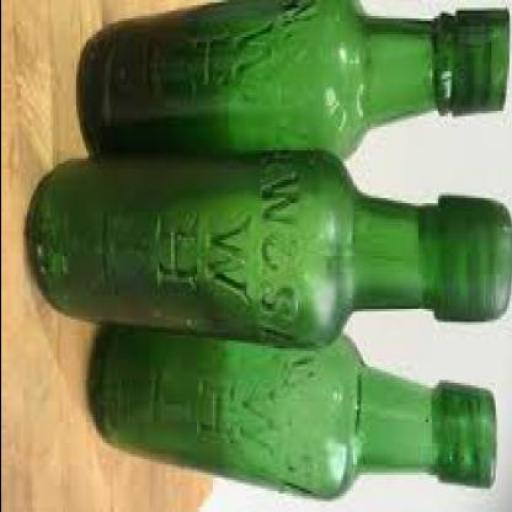glass: (26, 145, 511, 347), (77, 1, 510, 158), (90, 330, 496, 496)
